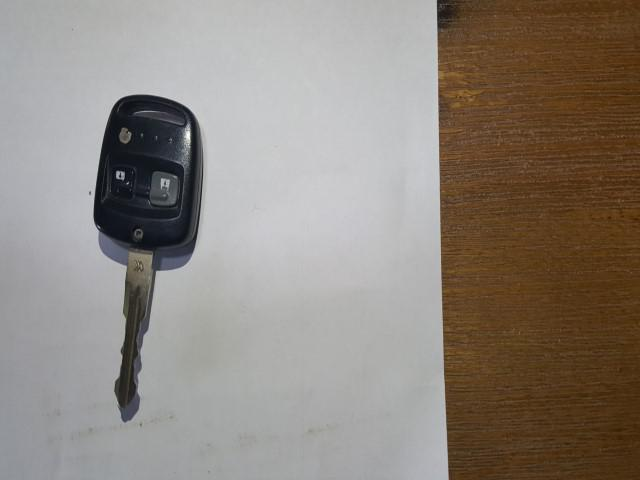key: (92, 95, 196, 196)
